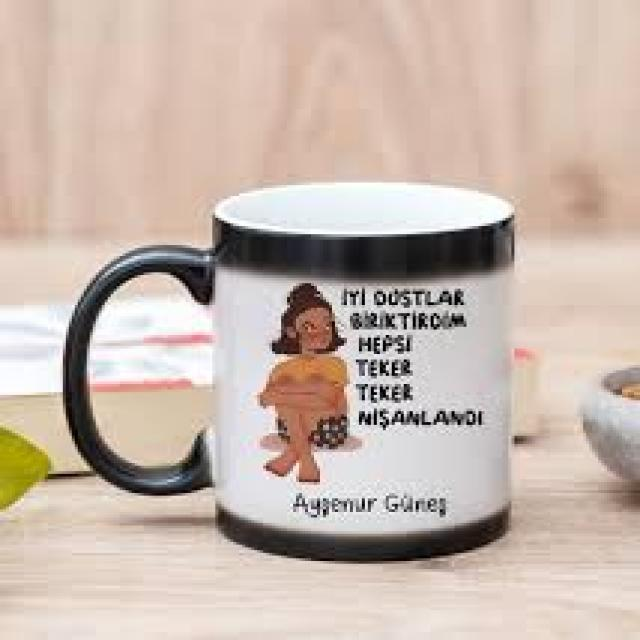taza: (60, 180, 518, 564)
